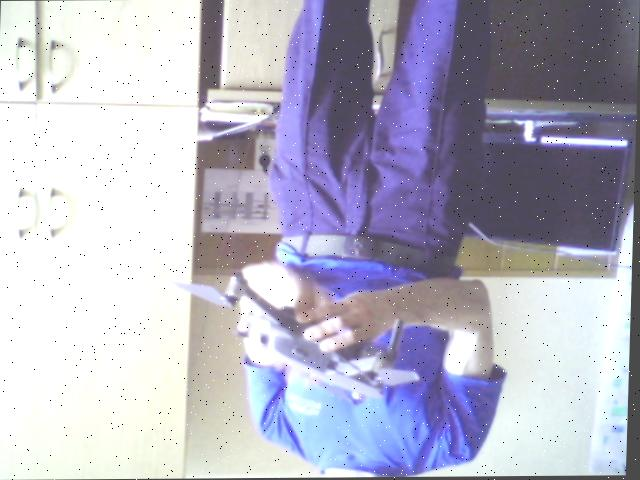drone: (159, 271, 431, 411)
